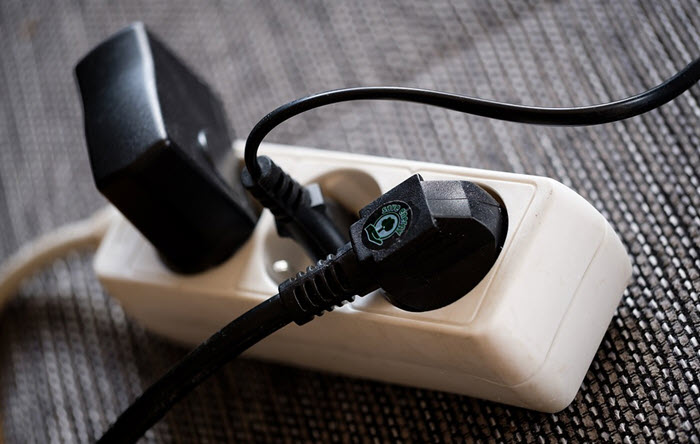Three_eye_plug: (82, 123, 641, 418)
